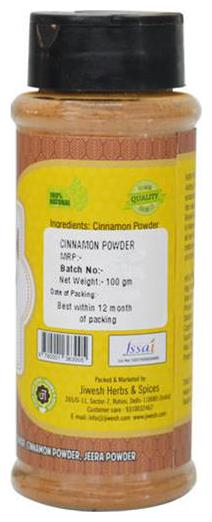fssai: (122, 338, 158, 356)
